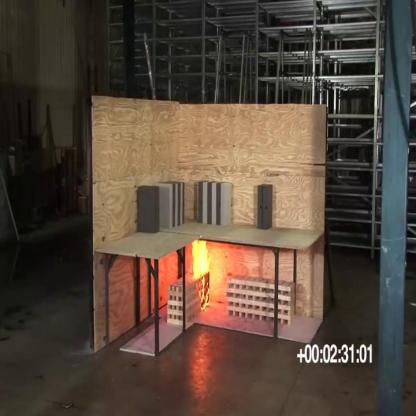fire: (188, 233, 212, 314)
